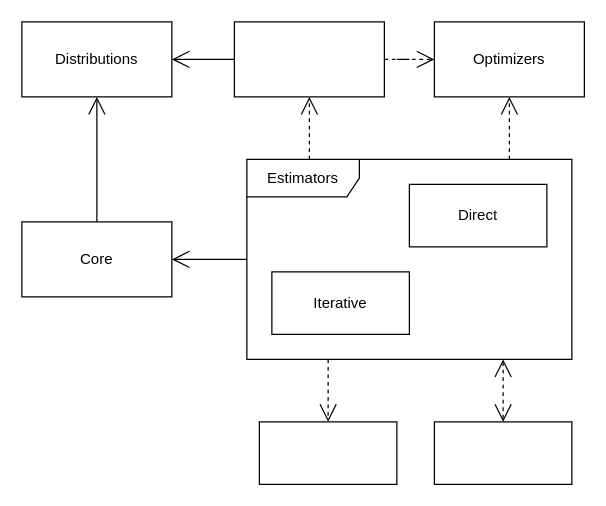
Image size: 606x506. Some labels were removed from this diagram. Here are the shapes that lost their labels. From the top down, the box of each, then its label:
(233, 21, 384, 97): Strategies
(258, 421, 397, 484): Initializers
(433, 421, 572, 484): Component Number
